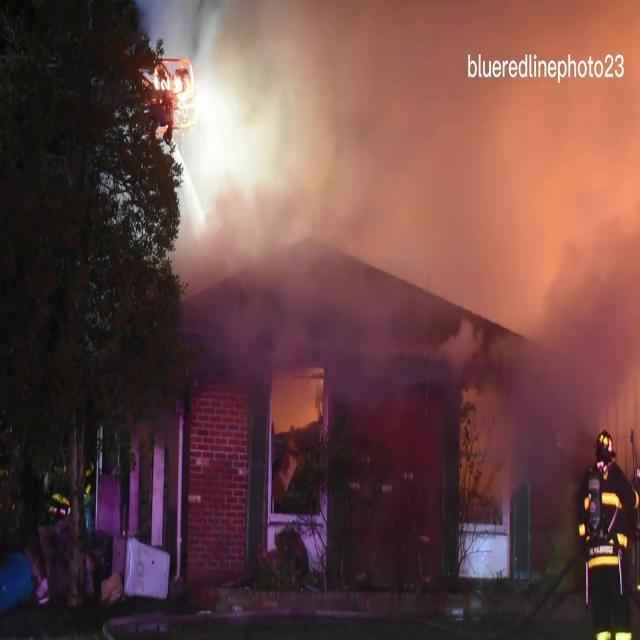Smoke: (207, 0, 640, 362)
